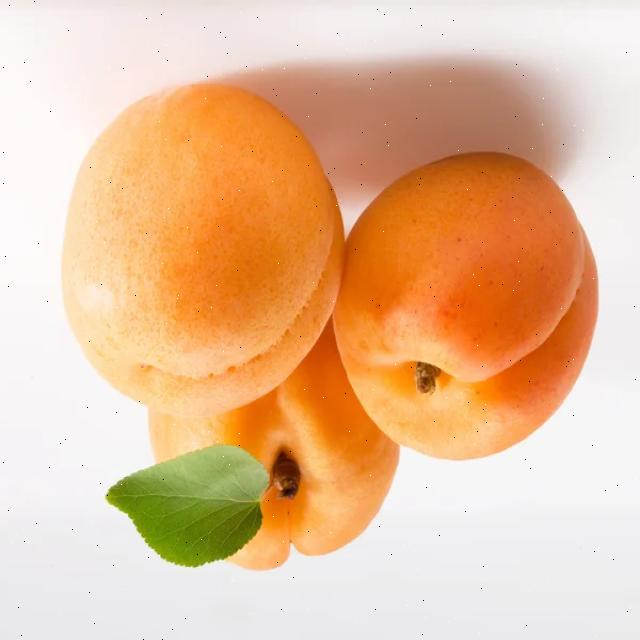kayisi: (65, 87, 340, 424), (330, 154, 600, 466), (142, 341, 414, 572)
kayisi yapragi: (105, 454, 266, 568)
